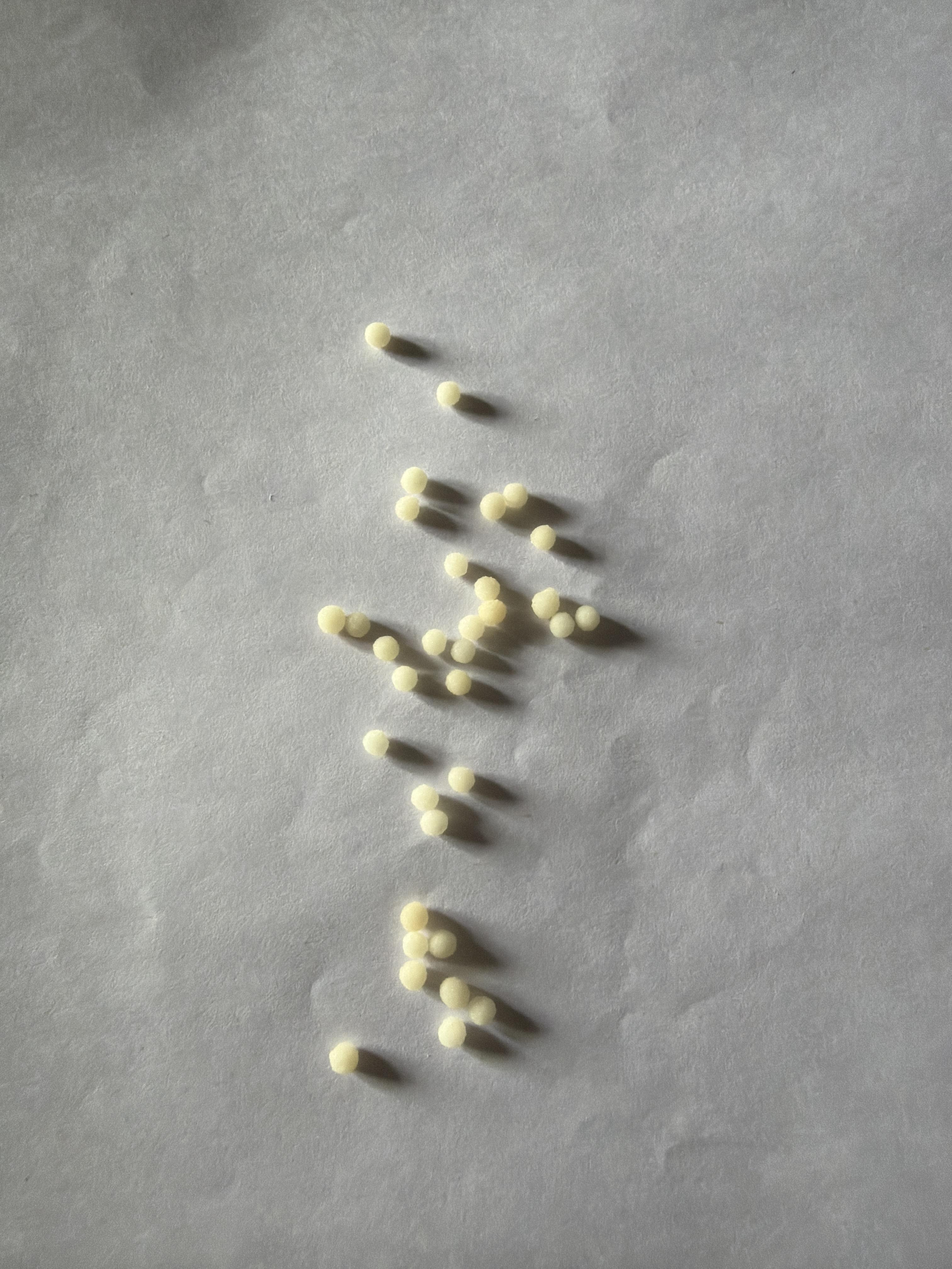pill: (439, 976, 469, 1009), (328, 1042, 359, 1073), (531, 587, 560, 620), (438, 1016, 466, 1048), (400, 901, 428, 932), (468, 995, 496, 1026), (317, 605, 346, 634), (399, 960, 427, 990), (428, 929, 456, 959), (447, 766, 475, 794), (420, 809, 448, 837), (478, 599, 507, 626), (411, 784, 439, 811), (400, 467, 428, 494), (362, 730, 389, 758), (480, 492, 506, 521), (402, 931, 428, 959), (445, 670, 472, 696), (365, 322, 391, 349), (344, 612, 371, 638), (394, 495, 420, 522), (421, 628, 447, 655), (391, 666, 418, 692), (530, 525, 556, 551), (549, 612, 575, 638), (474, 575, 500, 601), (450, 638, 476, 664), (372, 636, 399, 661), (459, 614, 484, 641), (503, 482, 528, 509), (575, 605, 600, 631), (436, 381, 461, 406), (444, 552, 468, 578)
